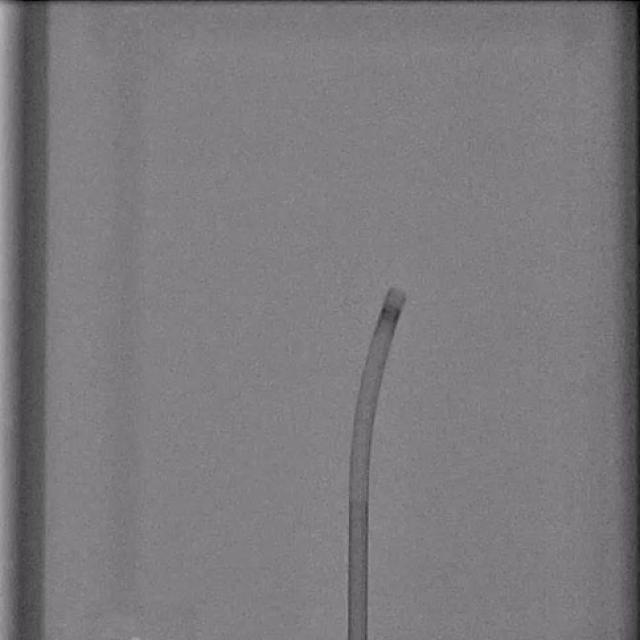bend: (350, 482, 368, 500)
entry: (349, 634, 367, 640)
marker: (380, 302, 401, 322)
tip: (390, 286, 408, 298)
